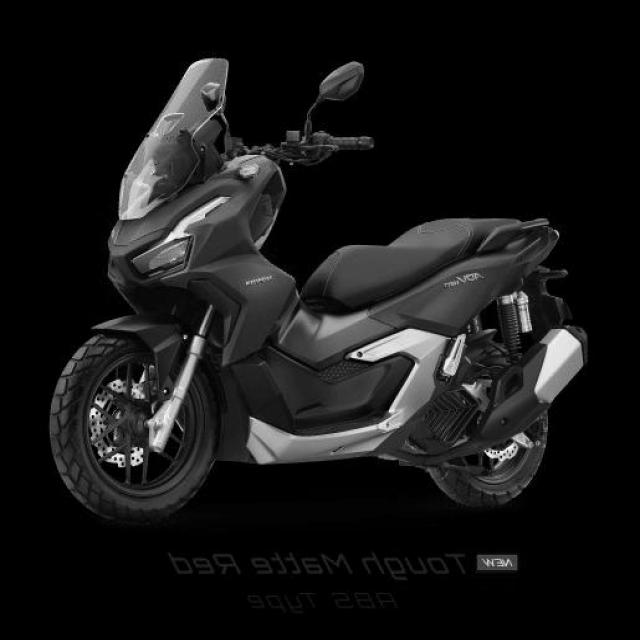Motorcycle: (50, 58, 588, 525)
